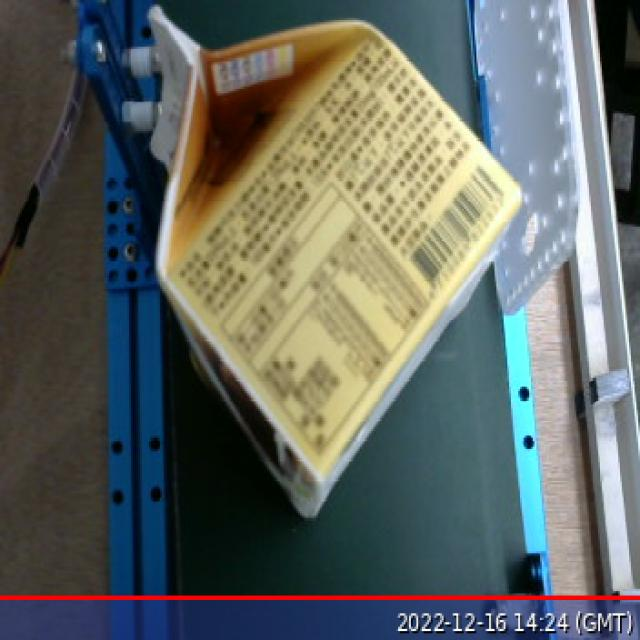non_white_jug: (113, 13, 583, 551)
